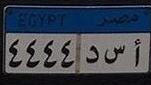4: (42, 36, 58, 70), (24, 37, 40, 70), (59, 38, 75, 70), (7, 37, 23, 68)
alif: (131, 34, 143, 71)
daal: (84, 43, 100, 67)
seen: (103, 42, 126, 66)
